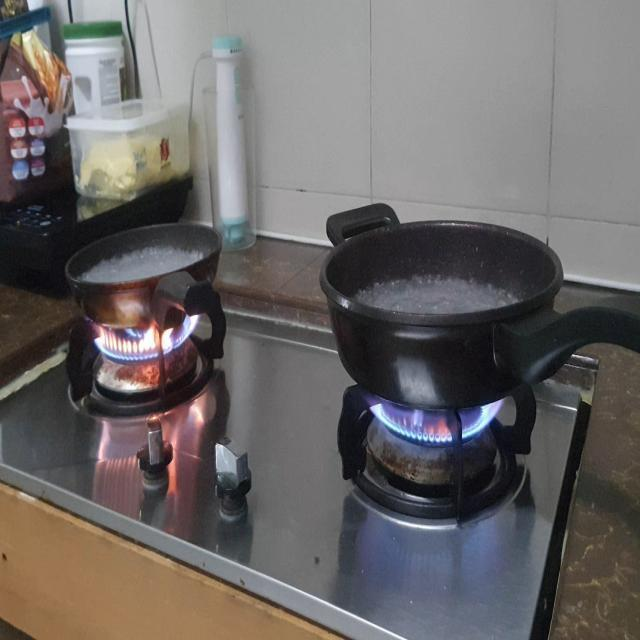smoke: (356, 379, 512, 454), (93, 317, 217, 362)
